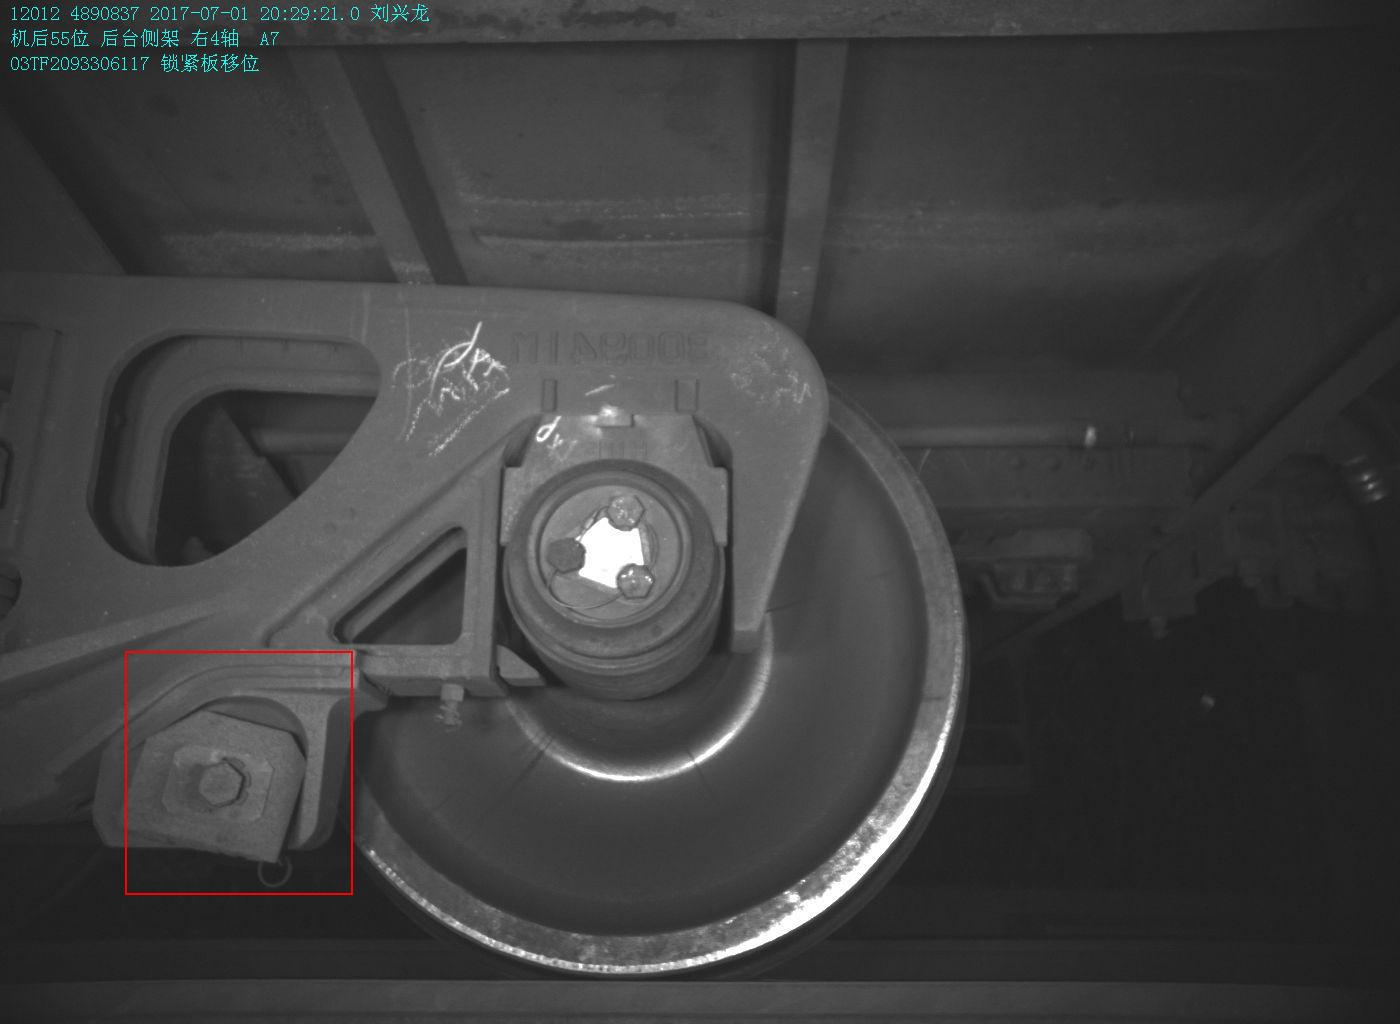locking plate: (93, 694, 321, 864)
